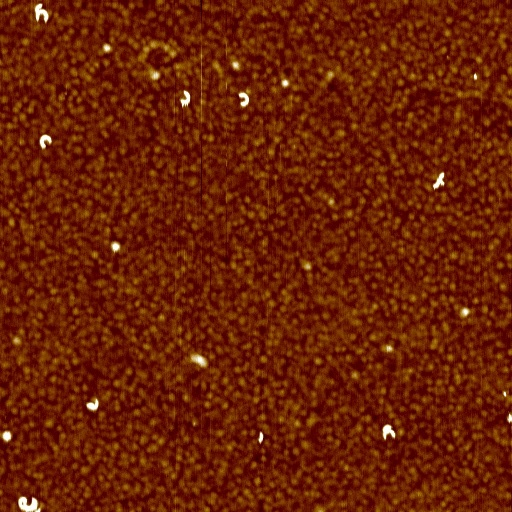-1: (187, 351, 213, 370), (430, 170, 448, 192), (2, 431, 15, 445), (109, 244, 122, 255), (459, 306, 470, 319), (256, 432, 265, 444), (469, 72, 479, 82)
1/4: (85, 395, 102, 415)
2/4: (32, 4, 49, 26), (381, 423, 397, 441), (38, 135, 53, 152), (179, 90, 192, 107), (239, 90, 249, 109)
3/4: (18, 494, 40, 511)
